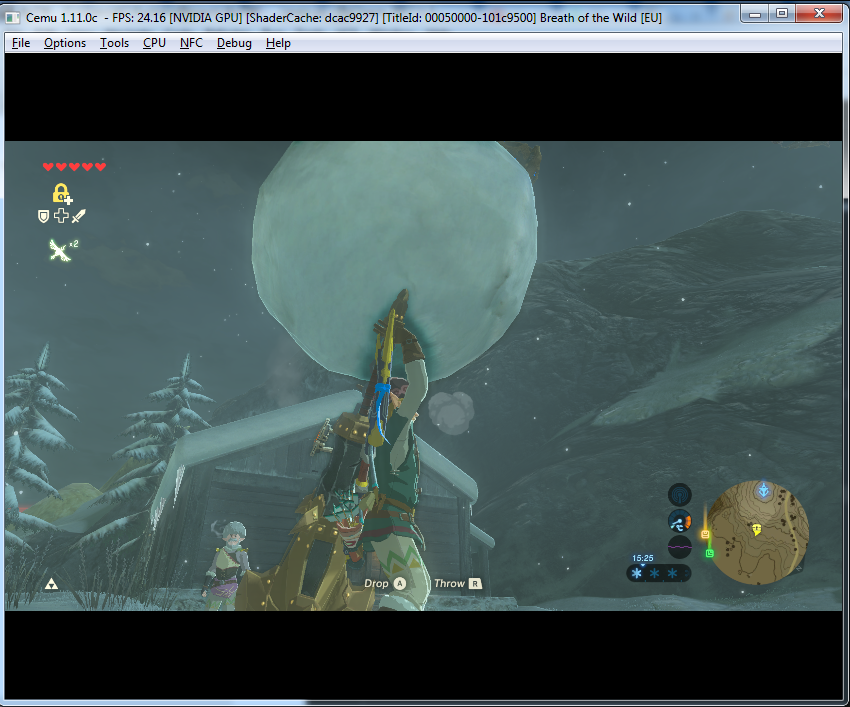dude: (205, 508, 260, 615)
link: (308, 286, 464, 609)
snowball: (251, 138, 542, 385)
